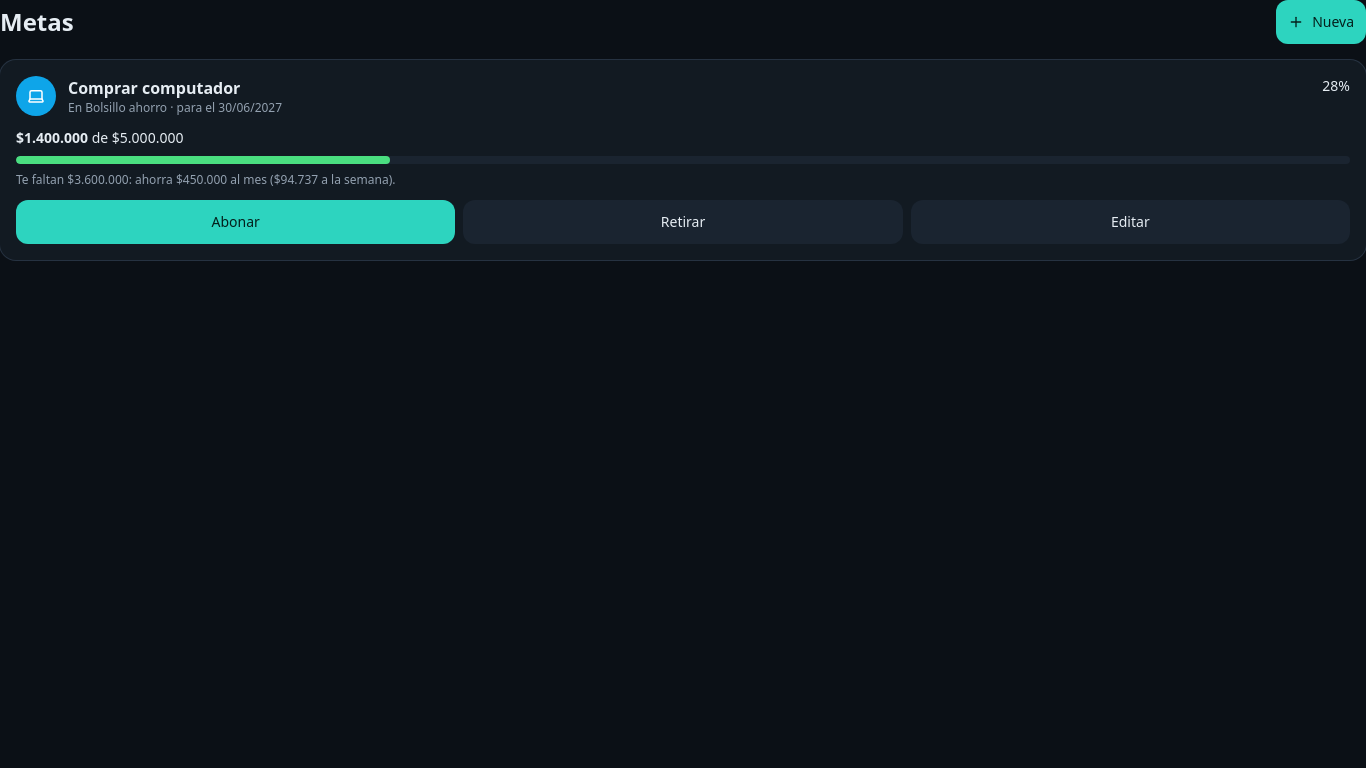
Test: GoalsPage (spec 8.10) › asks for another active account when there is none to move money from or to
The width and height of the screenshot is (1366, 768).
Click the button "Abonar".
click(236, 222)  # box top-left (16, 200), bottom-right (455, 244)
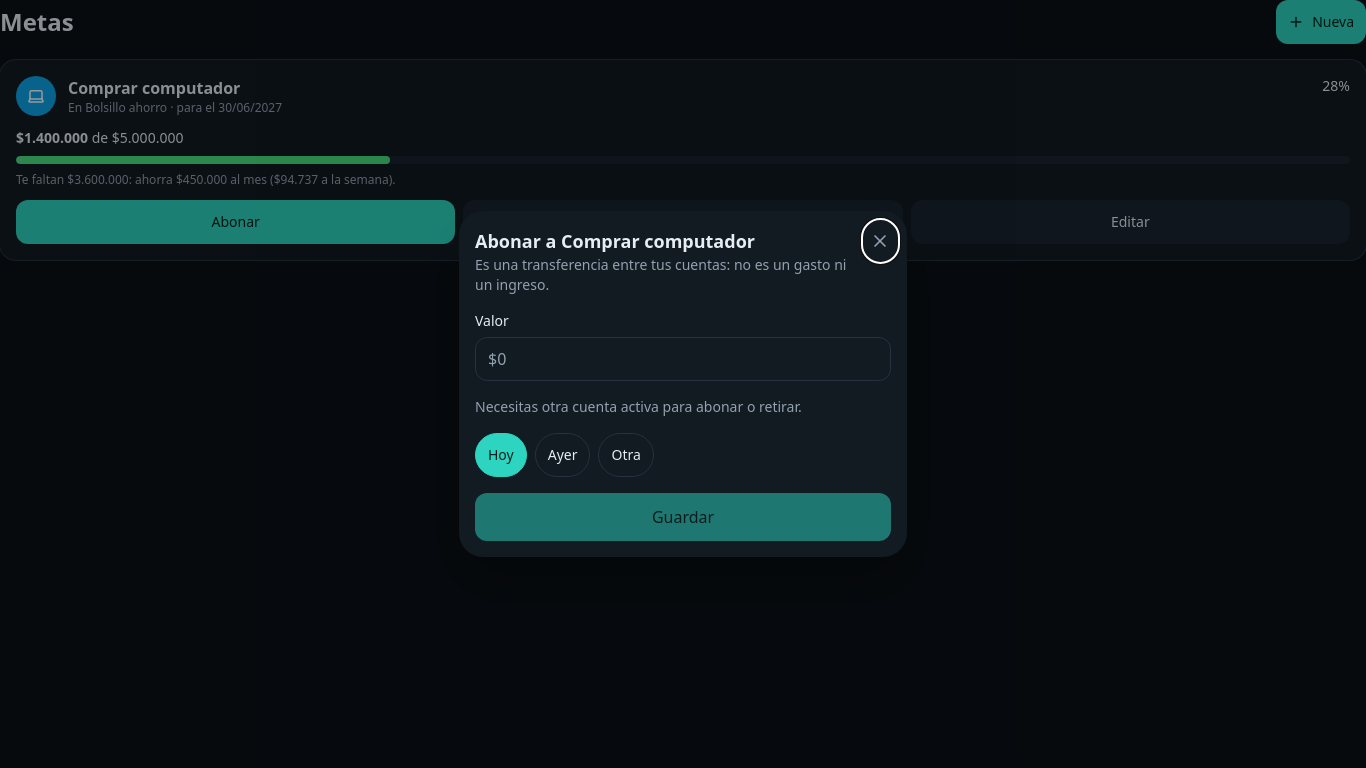
Expected: the text "Necesitas otra cuenta activa para abonar o retirar." is shown, top-left (475, 397), bottom-right (802, 416)
Expected: the button "Guardar" is disabled, top-left (475, 493), bottom-right (891, 541)
